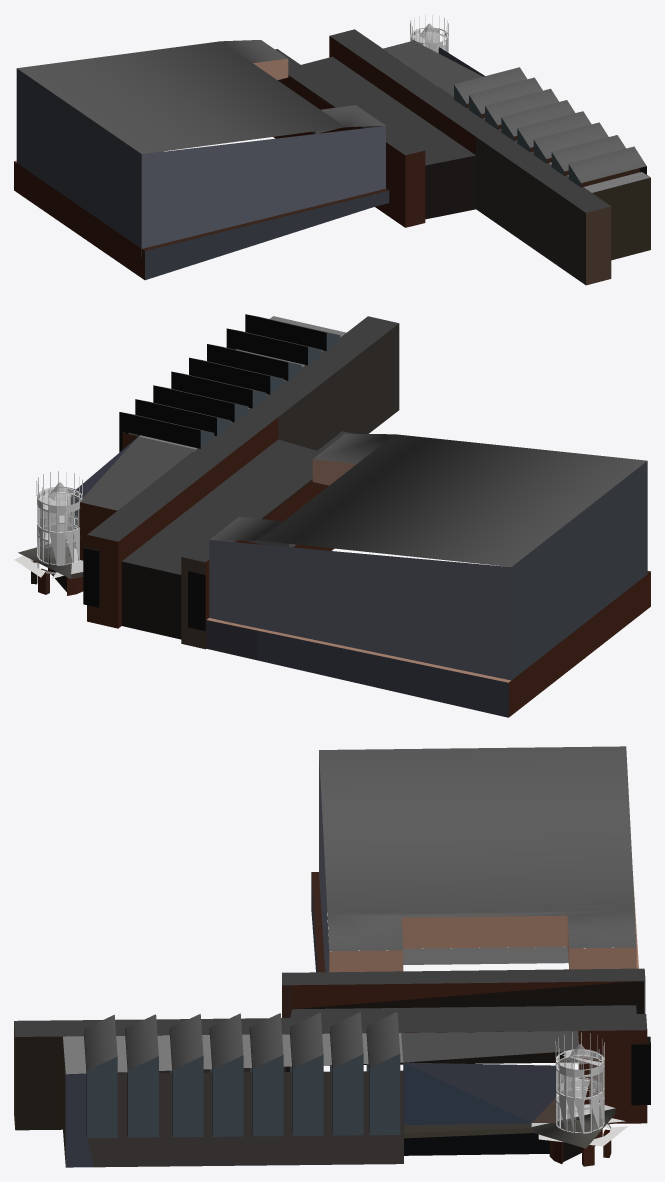
File: imax-chattanooga.glb
3 renders of one model, top to bottom at view 1: azimuth 30°, elevation 25°; view 2: azimuth 150°, elevation 25°; view 3: azimuth 270°, elevation 25°, orthographic. The views are drawn at different scales.
Parts seen in each view (by area): view 1: LOD0; view 2: LOD0; view 3: LOD0.
Part boxes in pixels (box(x1,y1,x2,y2)): LOD0: box(14, 15, 650, 285); LOD0: box(14, 314, 650, 717); LOD0: box(14, 746, 650, 1167).
Size of what is drawn, in the model's own units: 67.33 by 18.64 by 67.44.
Materials: 4 (4 with a texture image).
